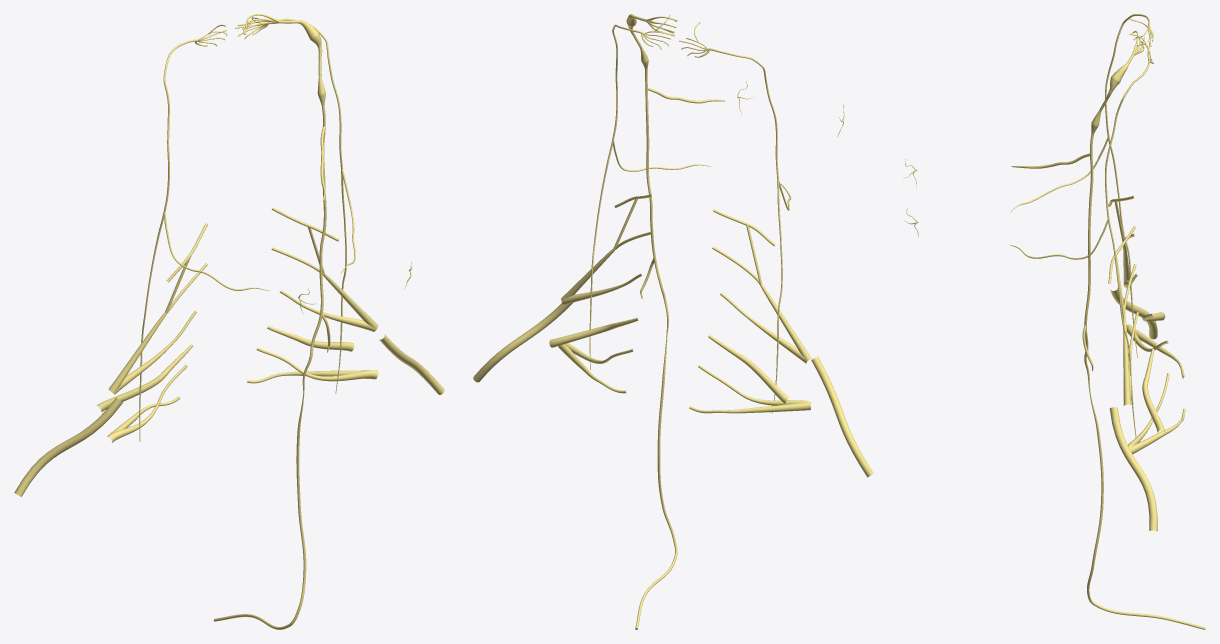
File: nerfs-cou.hi.glb
3 views of the same model, side by side, from view 1: azimuth 30°, elevation 25°; view 2: azimuth 150°, elevation 25°; view 3: azimuth 270°, elevation 25° (orthographic). The views are drawn at different scales.
Parts seen in each view (by area): view 1: ZA-roots-of-brachial-plexus-d, ZA-roots-of-brachial-plexus-g, ZA-vagus-nerve-x-g, ZA-glossopharyngeal-nerve-ix-d, ZA-glossopharyngeal-nerve-ix-g, ZA-superior-trunk-of-brachial-plexus-d, ZA-superior-trunk-of-brachial-plexus-g; view 2: ZA-roots-of-brachial-plexus-d, ZA-vagus-nerve-x-g, ZA-roots-of-brachial-plexus-g, ZA-glossopharyngeal-nerve-ix-g, ZA-glossopharyngeal-nerve-ix-d, ZA-superior-trunk-of-brachial-plexus-d, ZA-superior-trunk-of-brachial-plexus-g; view 3: ZA-vagus-nerve-x-g, ZA-roots-of-brachial-plexus-g, ZA-roots-of-brachial-plexus-d, ZA-glossopharyngeal-nerve-ix-g, ZA-glossopharyngeal-nerve-ix-d, ZA-superior-trunk-of-brachial-plexus-g, ZA-superior-trunk-of-brachial-plexus-d.
Boxes of the visible parts, x1,y1,x2,y2 form: ZA-roots-of-brachial-plexus-d: (97,223,207,442); ZA-roots-of-brachial-plexus-g: (247,207,378,383); ZA-vagus-nerve-x-g: (214,14,330,629); ZA-glossopharyngeal-nerve-ix-d: (139,24,269,441); ZA-glossopharyngeal-nerve-ix-g: (235,17,355,393); ZA-superior-trunk-of-brachial-plexus-d: (14,397,122,496); ZA-superior-trunk-of-brachial-plexus-g: (379,334,444,394); ZA-roots-of-brachial-plexus-d: (689,209,811,413); ZA-vagus-nerve-x-g: (626,14,725,629); ZA-roots-of-brachial-plexus-g: (549,194,651,393); ZA-glossopharyngeal-nerve-ix-g: (589,15,710,369); ZA-glossopharyngeal-nerve-ix-d: (679,22,791,413); ZA-superior-trunk-of-brachial-plexus-d: (811,356,873,477); ZA-superior-trunk-of-brachial-plexus-g: (473,303,572,382); ZA-vagus-nerve-x-g: (1011,31,1205,629); ZA-roots-of-brachial-plexus-g: (1108,226,1185,454); ZA-roots-of-brachial-plexus-d: (1108,195,1184,379); ZA-glossopharyngeal-nerve-ix-g: (1010,33,1153,437); ZA-glossopharyngeal-nerve-ix-d: (1010,14,1153,358); ZA-superior-trunk-of-brachial-plexus-g: (1109,407,1157,531); ZA-superior-trunk-of-brachial-plexus-d: (1110,287,1157,339).
Size of the model in its own units: 0.1686 by 0.2373 by 0.1091.
